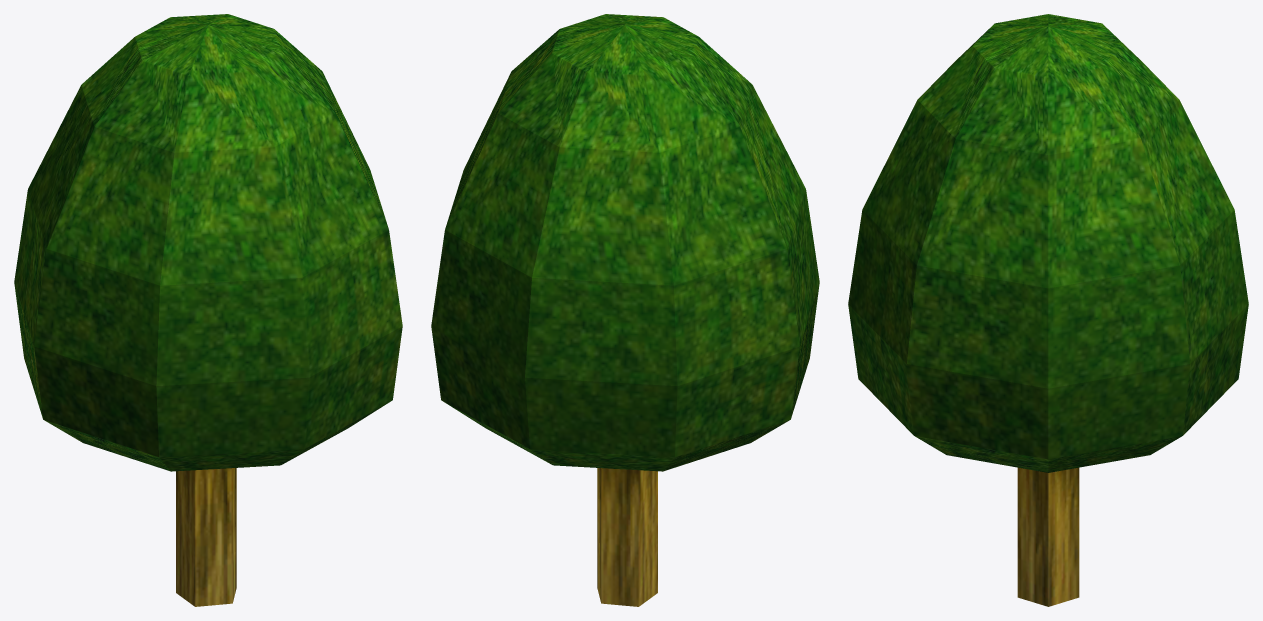
The model's file is N64_Tree.obj.
3 renders of one model, left to right at view 1: azimuth 30°, elevation 25°; view 2: azimuth 150°, elevation 25°; view 3: azimuth 270°, elevation 25°, orthographic.
Visible parts, largest first — view 1: N64_Tree-COM-skpAFC2-2722-auto; view 2: N64_Tree-COM-skpAFC2-2722-auto; view 3: N64_Tree-COM-skpAFC2-2722-auto.
Part boxes in pixels (<box>): N64_Tree-COM-skpAFC2-2722-auto: <box>14,14,402,606</box>; N64_Tree-COM-skpAFC2-2722-auto: <box>431,14,819,606</box>; N64_Tree-COM-skpAFC2-2722-auto: <box>848,14,1248,606</box>.
Size of the model in its own units: 84.48 by 132 by 84.48.
